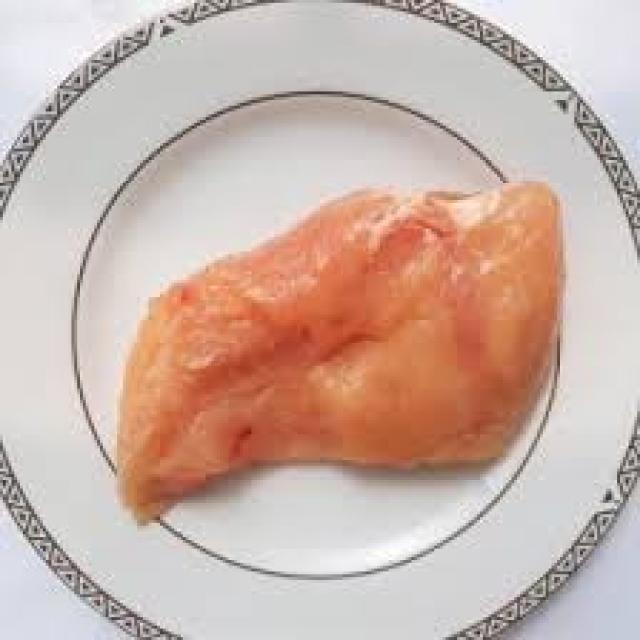chicken: (112, 178, 573, 550)
